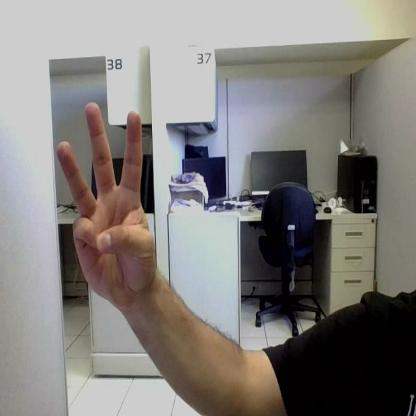W: (58, 103, 154, 297)
